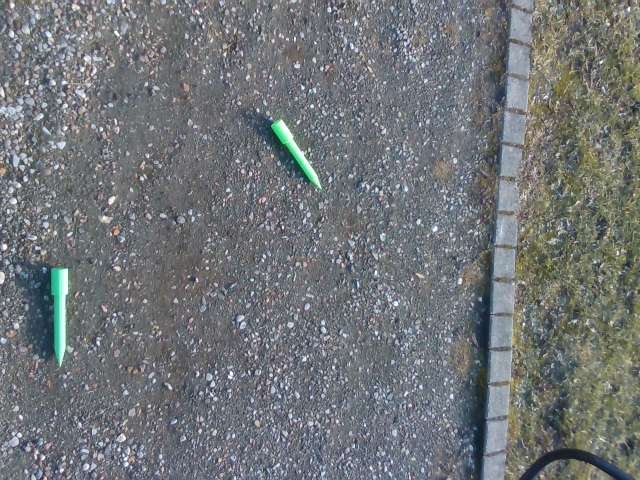Probe: (268, 115, 325, 195), (47, 260, 73, 370)
